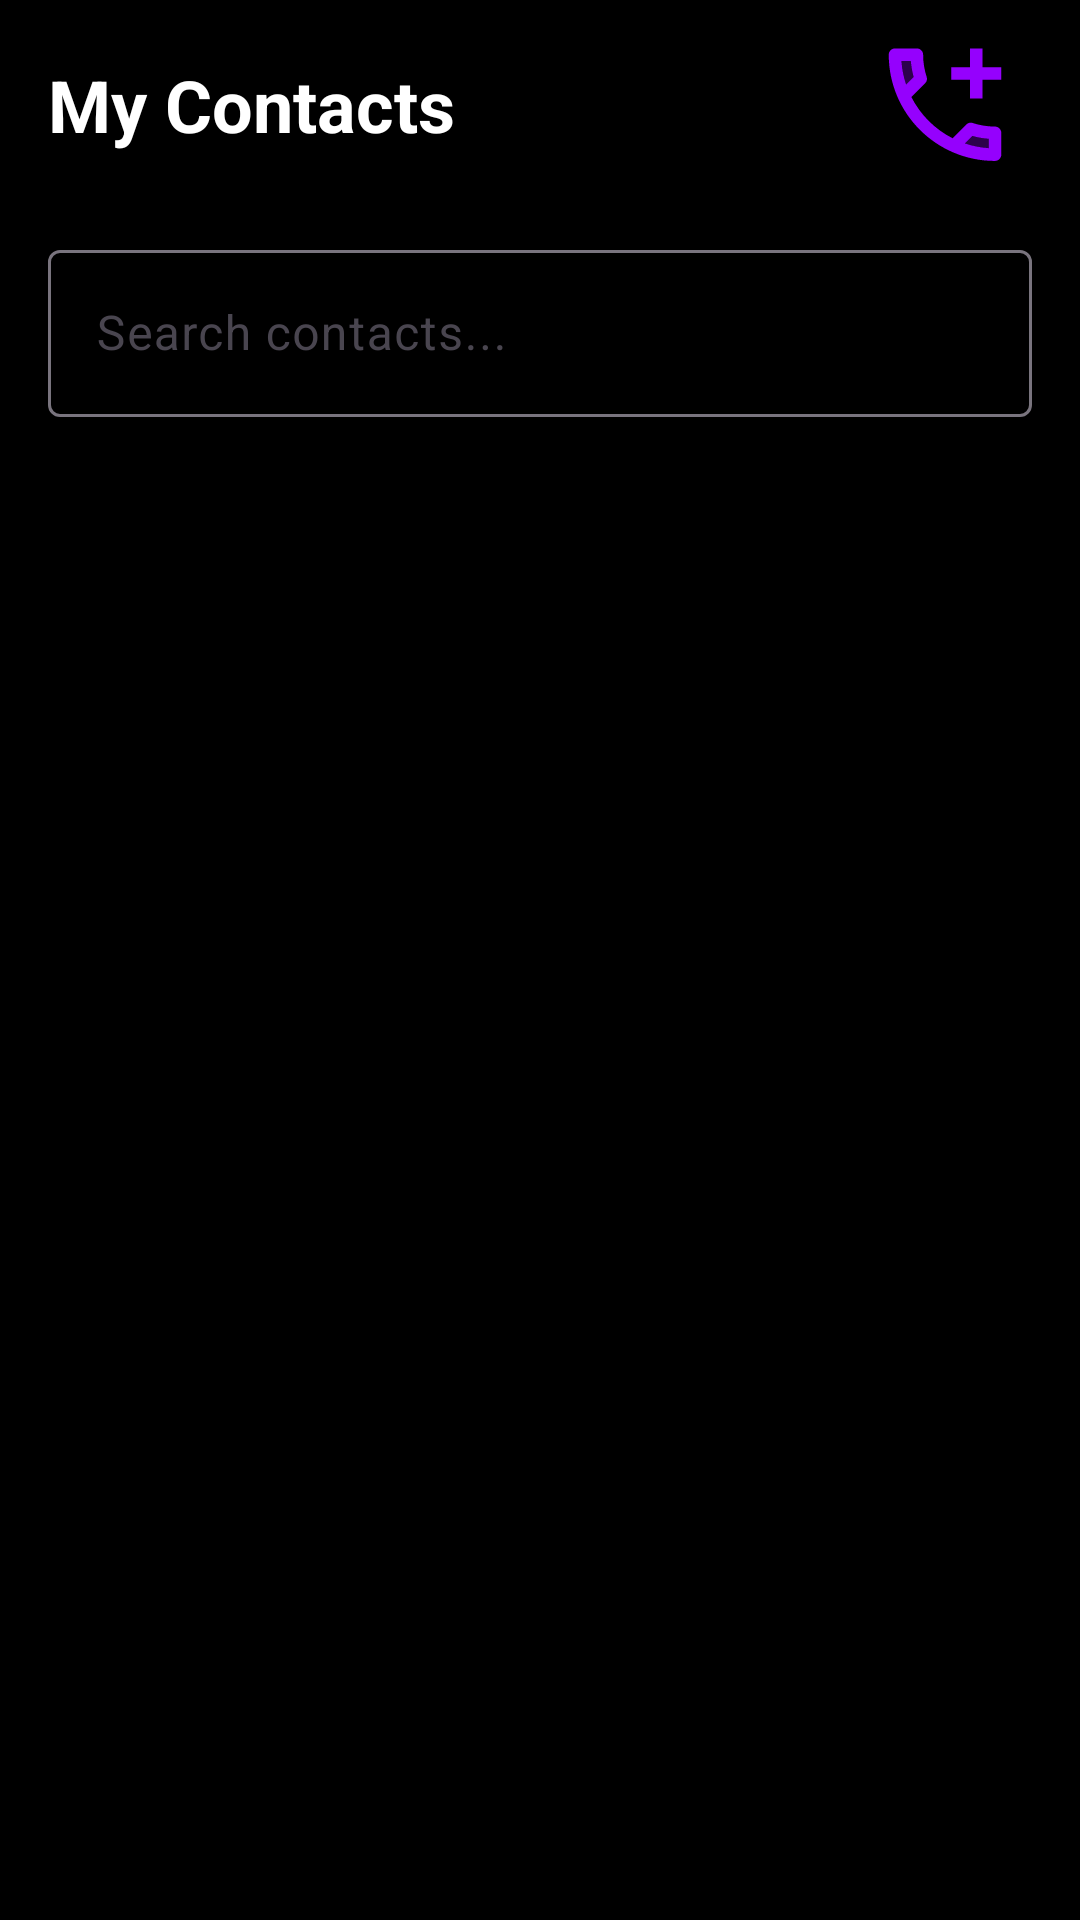

Where icons sit on this 1080 × 1920 app screen, as (x1, y1, x2, y2):
call: (888, 48, 1002, 161)
